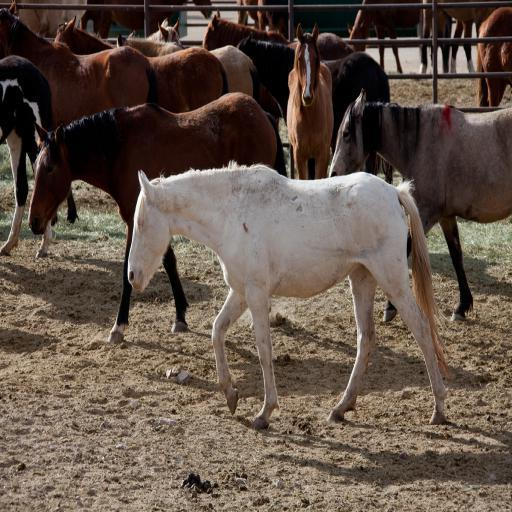horse: (0, 0, 391, 347), (126, 158, 452, 426), (327, 85, 512, 323), (348, 0, 512, 111)
